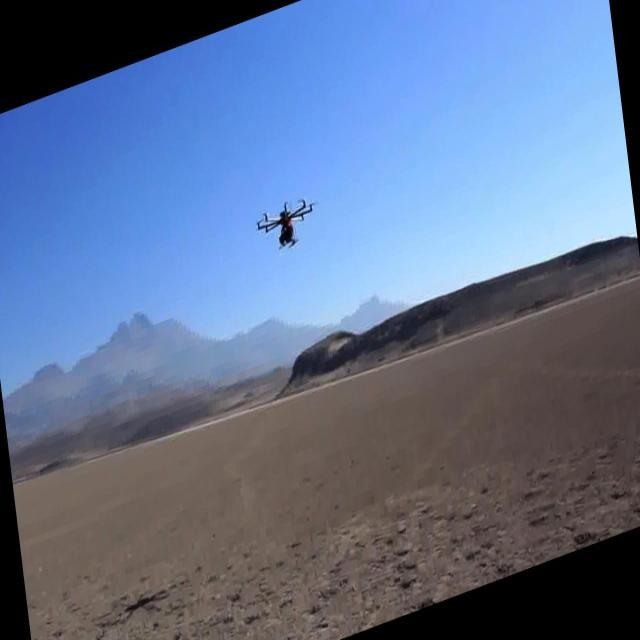drone: (254, 186, 320, 264)
